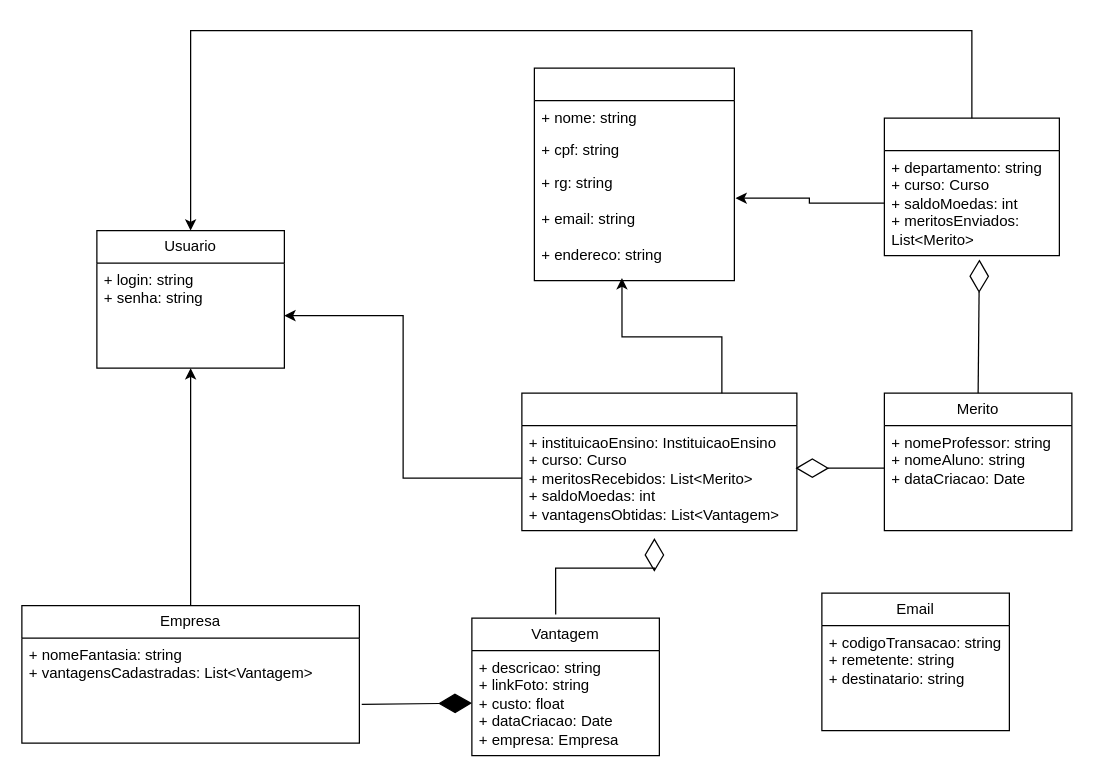
The diagram is 1094 pixels wide and 781 high, and some of its shapes have lost their labels. The shapes that lost their labels are listed below. From the top down, each one's box as (x1, y1, x2, y2) in pixels, then its label:
(533, 67, 734, 281): Pessoa
(883, 117, 1059, 256): Professor
(521, 392, 797, 531): Aluno
